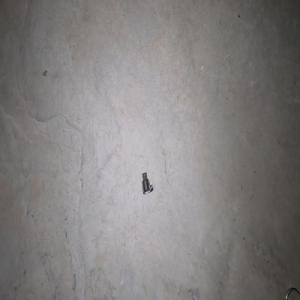MetalPart: (141, 171, 153, 195)
